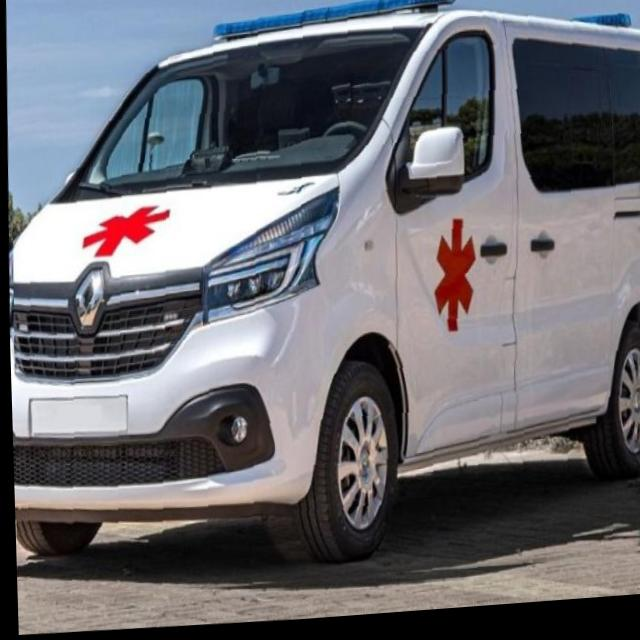ambulance: (0, 0, 640, 615)
